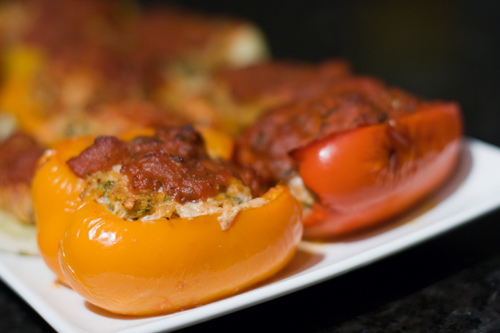capsicum: (29, 121, 306, 318), (235, 78, 461, 238)
